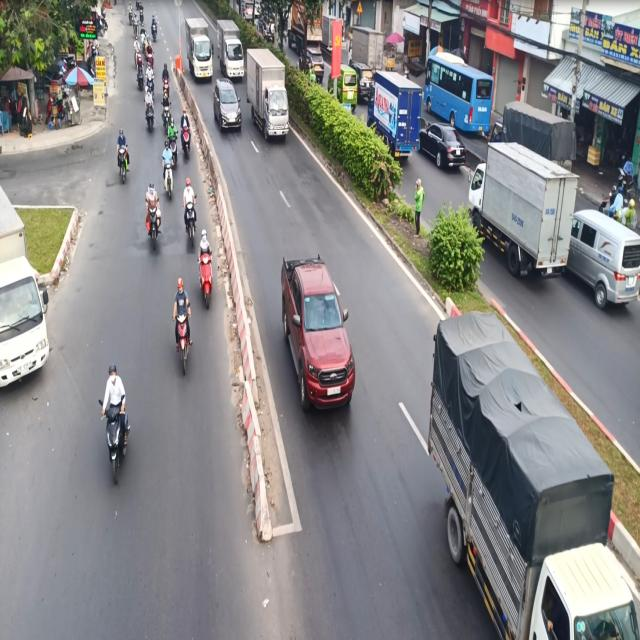car: (278, 249, 360, 415), (213, 75, 245, 141)
motor: (103, 358, 132, 491), (170, 275, 196, 383), (142, 179, 163, 254), (196, 227, 214, 312), (178, 178, 198, 245), (117, 122, 134, 189)
truck: (426, 305, 640, 640), (246, 50, 291, 146), (184, 12, 214, 90), (218, 18, 245, 78)
